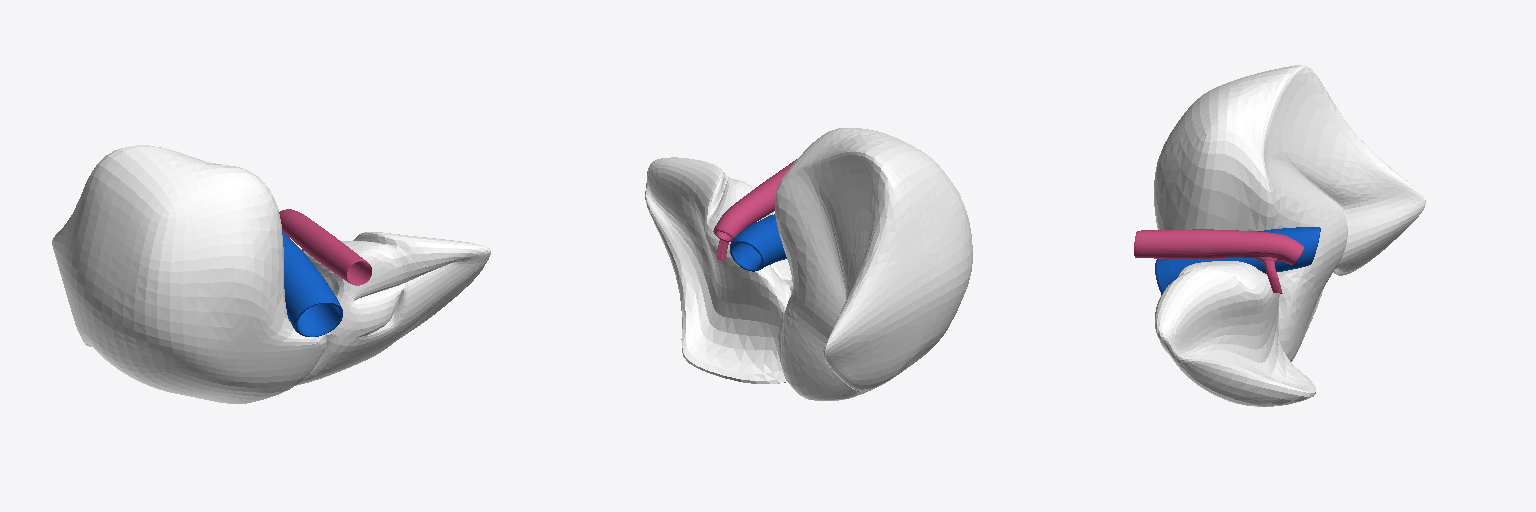
File: DL3D_LiverExternal.obj
3 renders of one model, left to right at view 1: azimuth 30°, elevation 25°; view 2: azimuth 150°, elevation 25°; view 3: azimuth 270°, elevation 25°, orthographic.
Parts seen in each view (by area): view 1: liver, hepaticDuct; view 2: liver, hepaticDuct; view 3: liver, hepaticDuct.
Part boxes in pixels (bbox=[...]): liver: bbox=[52, 145, 490, 403]; hepaticDuct: bbox=[279, 209, 371, 336]; liver: bbox=[645, 128, 972, 400]; hepaticDuct: bbox=[713, 159, 796, 271]; liver: bbox=[1154, 65, 1425, 406]; hepaticDuct: bbox=[1134, 227, 1320, 294].
Size of the model in its own units: 4.89 by 3.49 by 3.49.